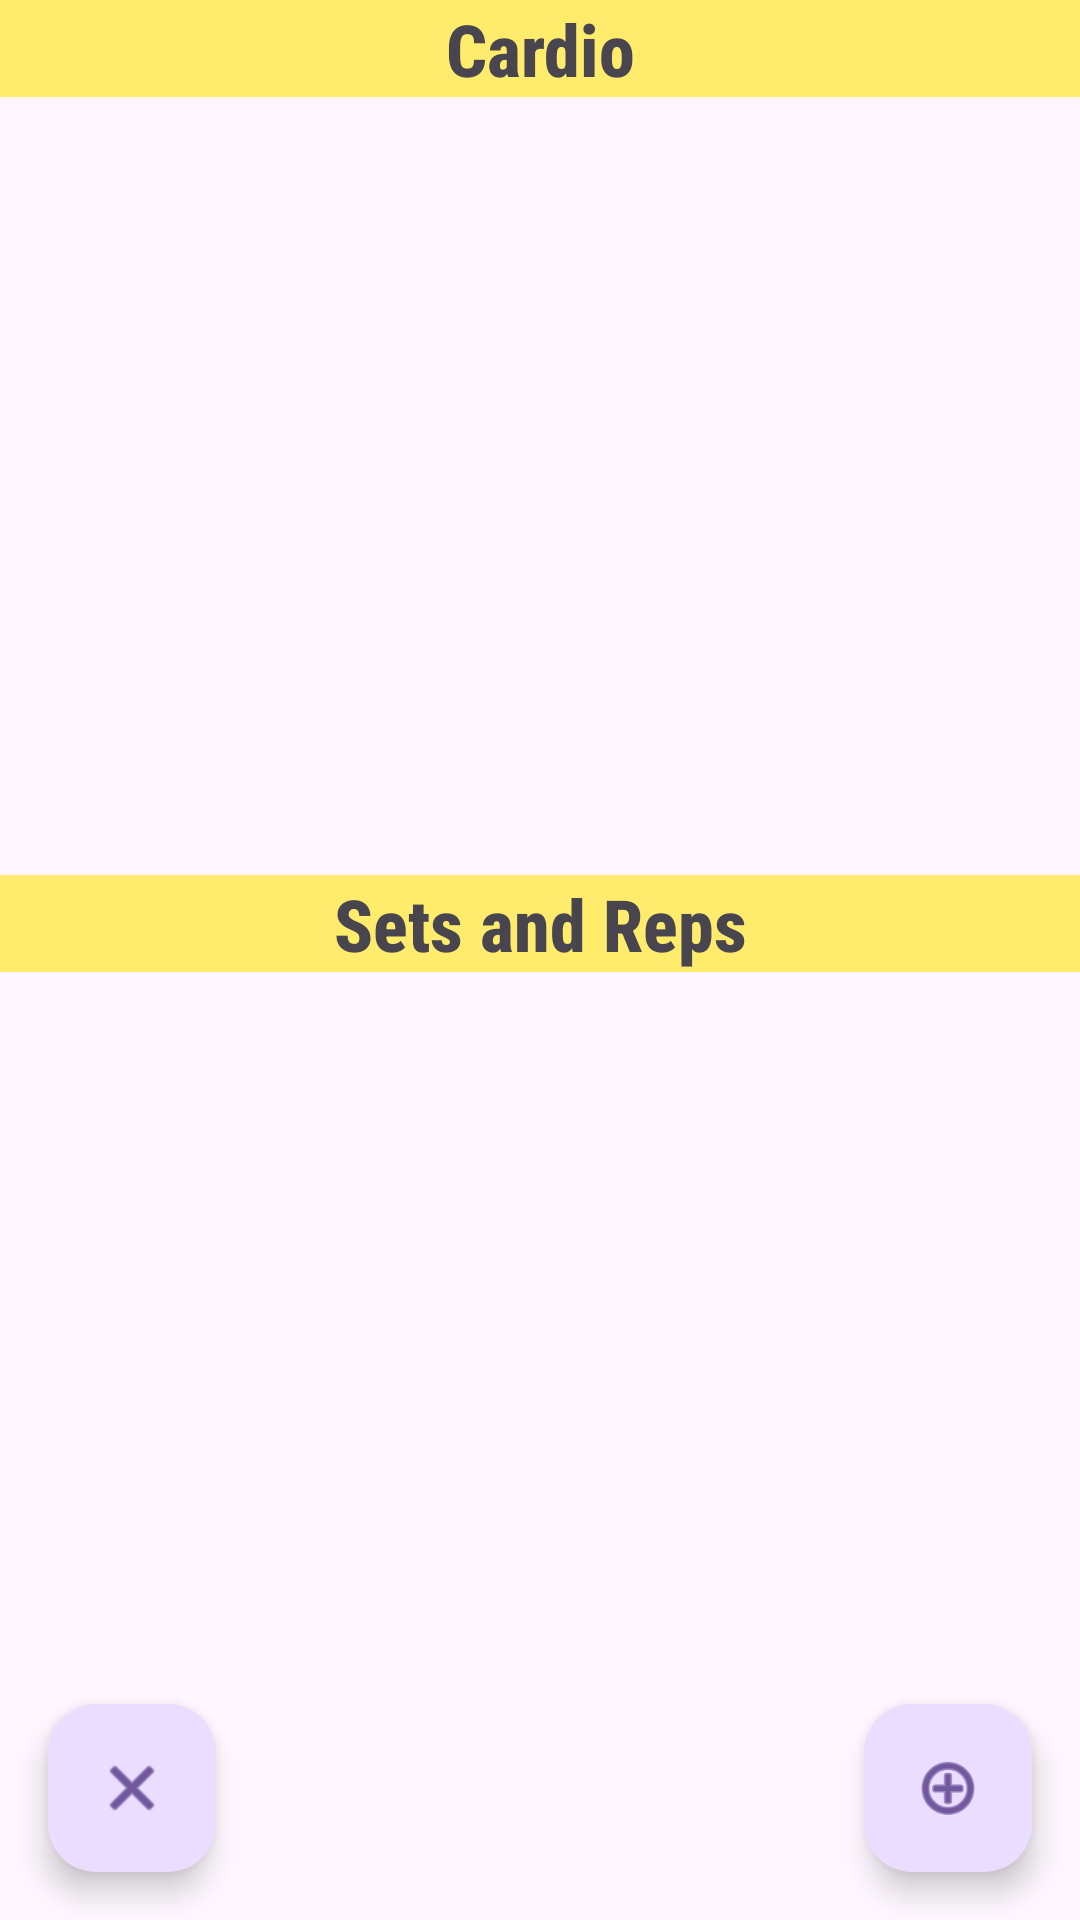

Point at icon controls on the screen. Image size 1080*1920, points as (x,y).
add: (948,1788)
close clear cancel: (132,1788)
